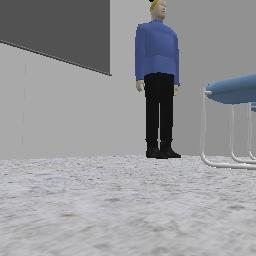persoana: (135, 0, 180, 157)
scaun: (201, 73, 255, 169)
